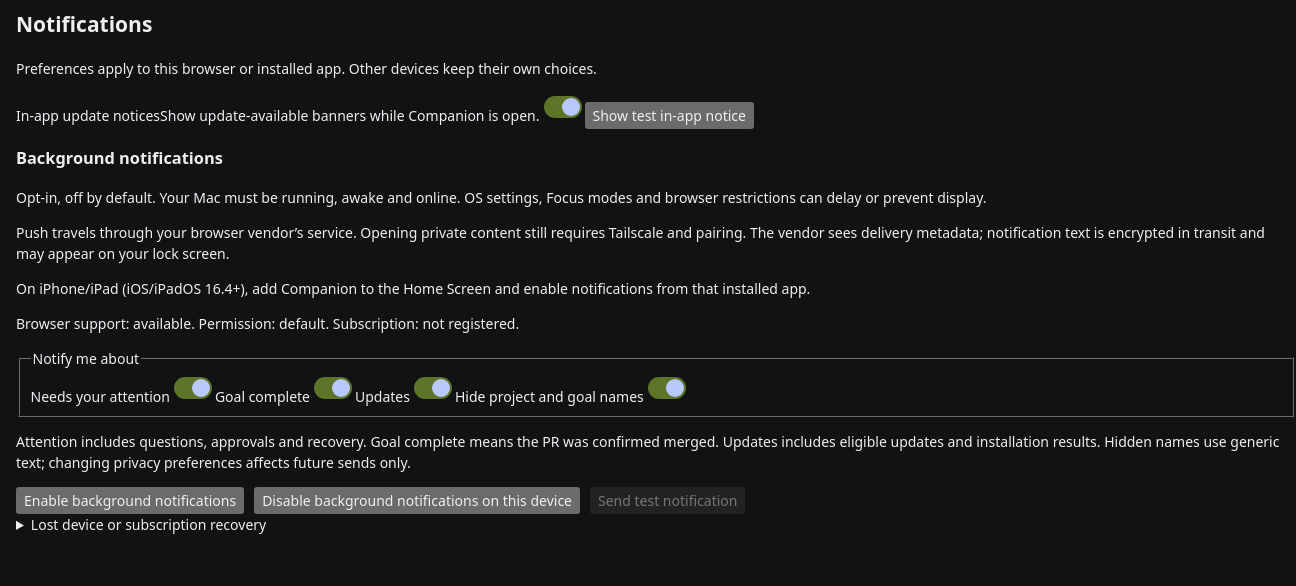
Scenario: enrollment cleanup failure and browser storage failure remain visible
Click the button "Enable background notifications" at (130, 501), box [16,487,244,514]
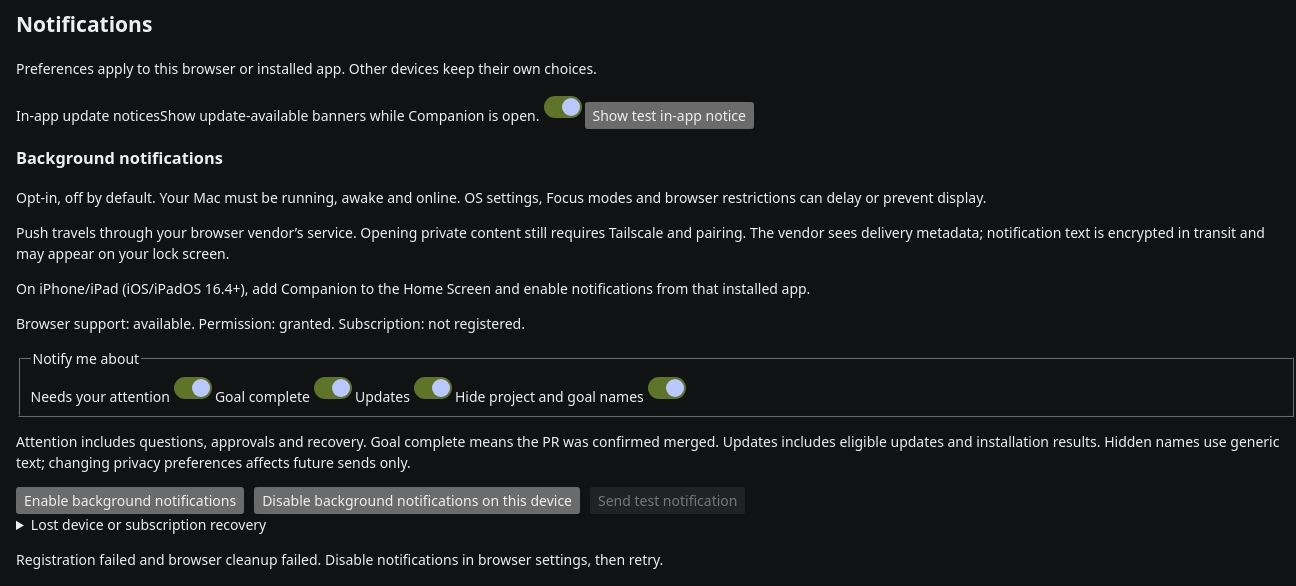
Result: the text "browser cleanup failed" is shown at [16,550,663,569]
Click the switch labelled "In-app update notices" at (562, 107), box [544,96,582,118]
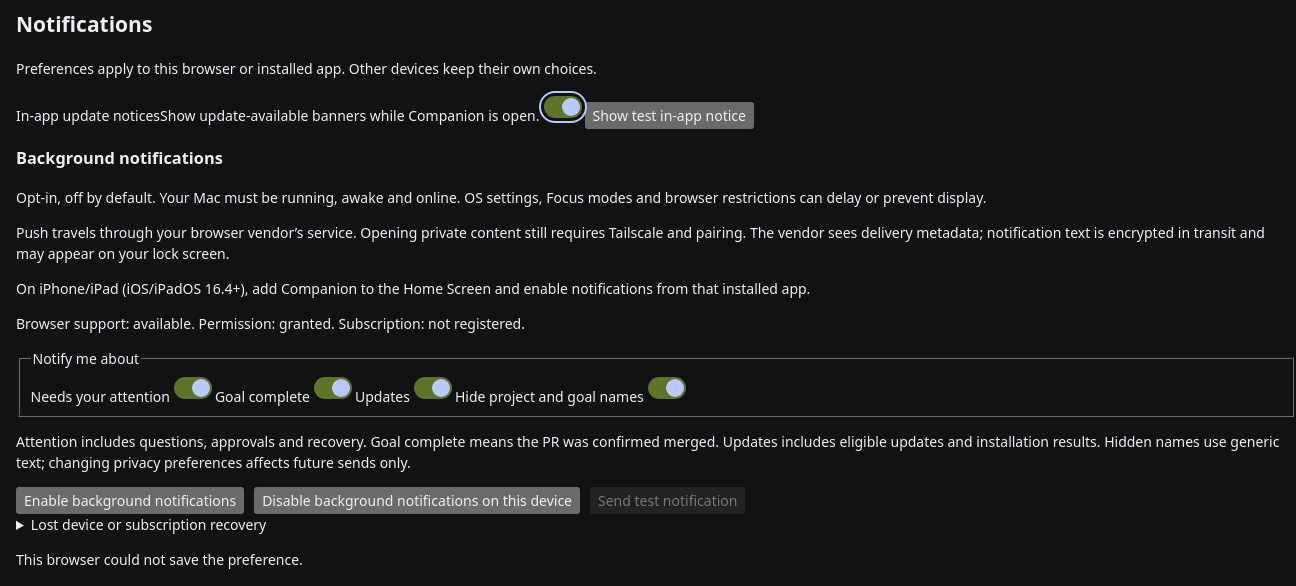
Result: the text "This browser could not save the preference." is shown at [16,550,303,569]
